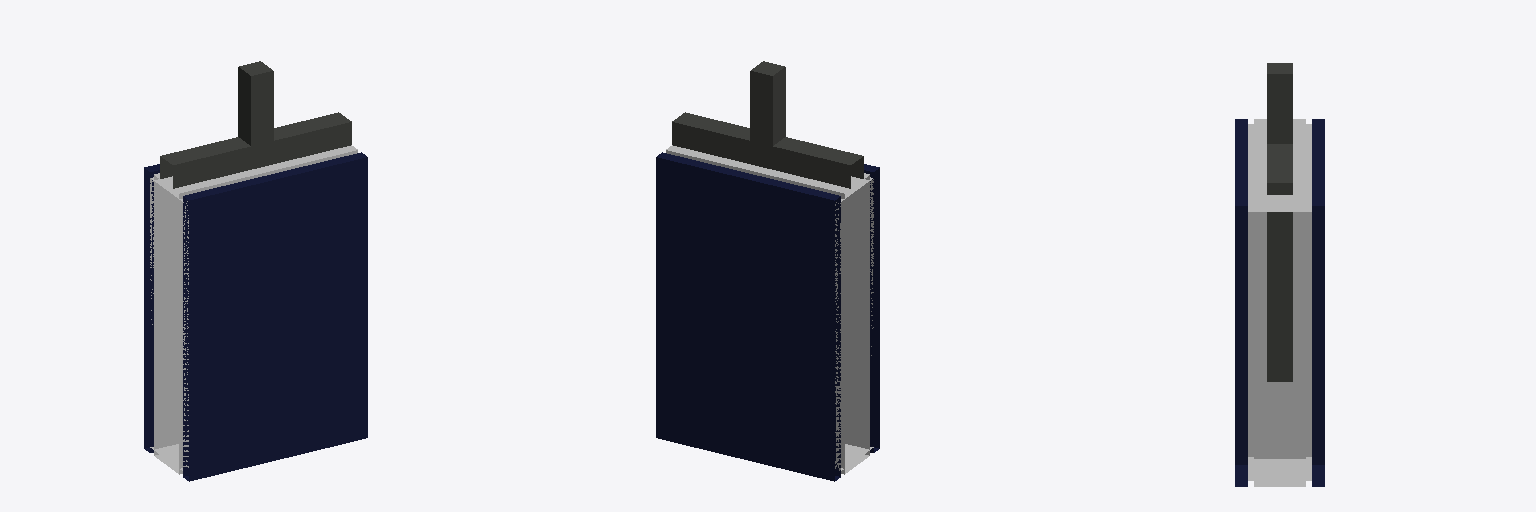
3 views of the same model, side by side, from view 1: azimuth 30°, elevation 25°; view 2: azimuth 150°, elevation 25°; view 3: azimuth 270°, elevation 25° (orthographic).
Visible parts, largest first — view 1: main, sideb, sidea, pole; view 2: main, sideb, pole, sidea; view 3: sideb, main, pole.
Boxes of the visible parts, x1,y1,x2,y2 form: main: [144, 112, 367, 481]; sideb: [262, 122, 329, 453]; sidea: [187, 143, 278, 444]; pole: [238, 61, 273, 169]; main: [656, 112, 879, 481]; sideb: [694, 121, 761, 457]; pole: [750, 61, 785, 169]; sidea: [745, 144, 828, 451]; sideb: [1235, 144, 1324, 464]; main: [1235, 119, 1324, 486]; pole: [1267, 63, 1292, 143].
Size of the model in its own units: 0.5 by 1 by 0.2188.
4 materials, 2 textured.